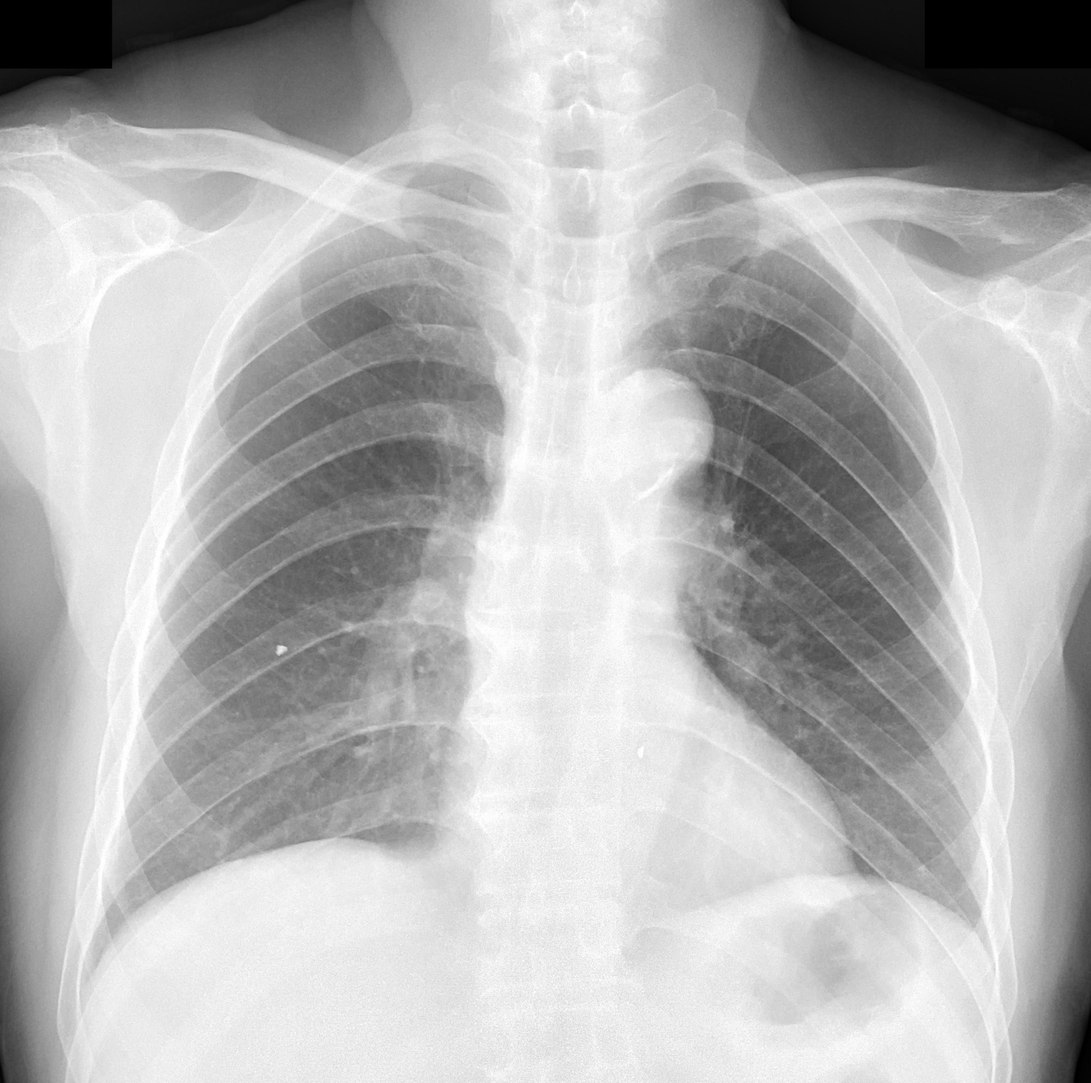Aortic enlargement: (587, 364, 718, 502)
